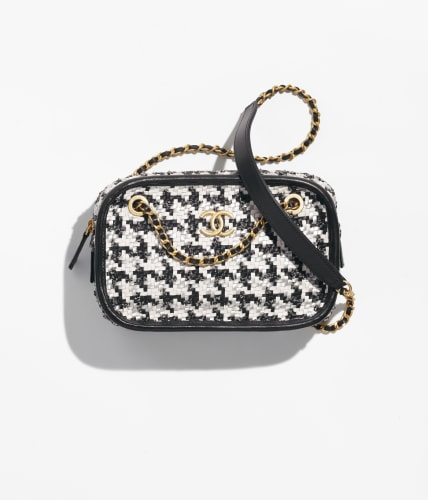channel: (71, 137, 384, 348), (136, 200, 180, 265), (192, 200, 242, 244)
